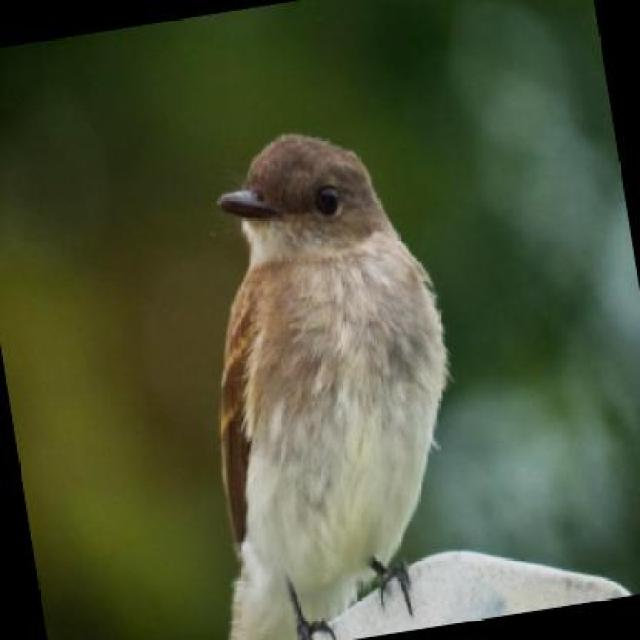sparrow: (163, 111, 491, 640)
